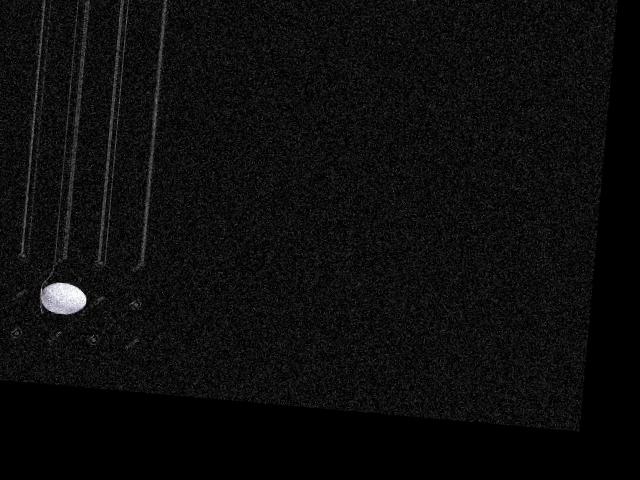egg: (39, 280, 87, 315)
